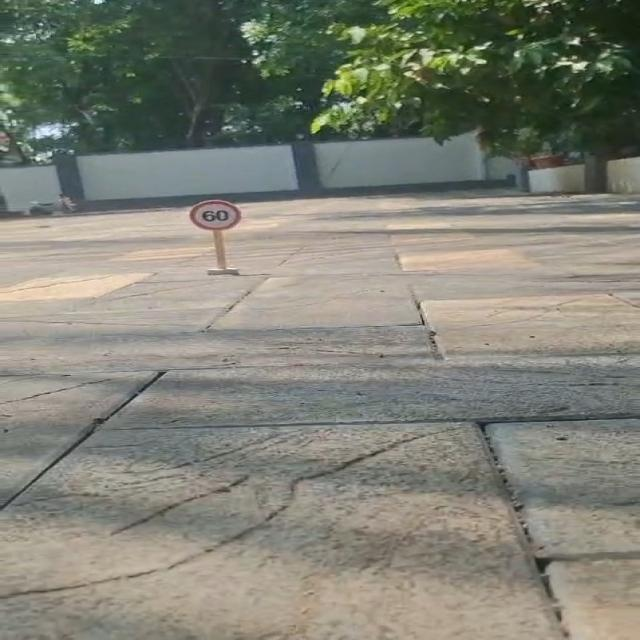Speed60: (180, 196, 249, 236)
